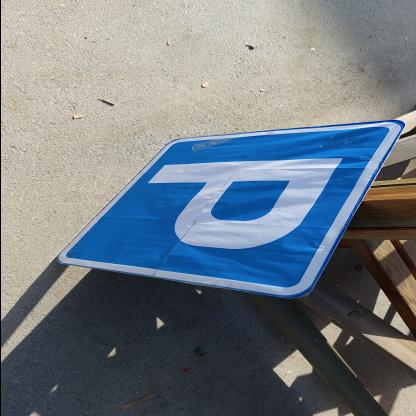Parking-Sign: (53, 123, 405, 299)
